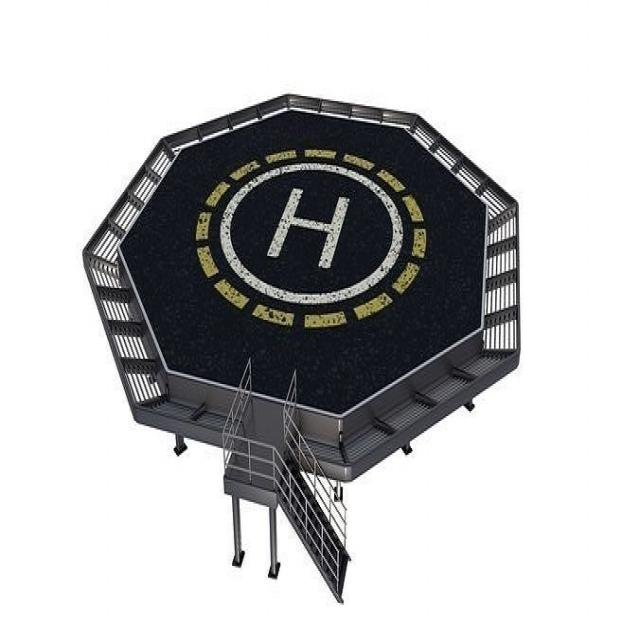helipad: (215, 156, 403, 306)
